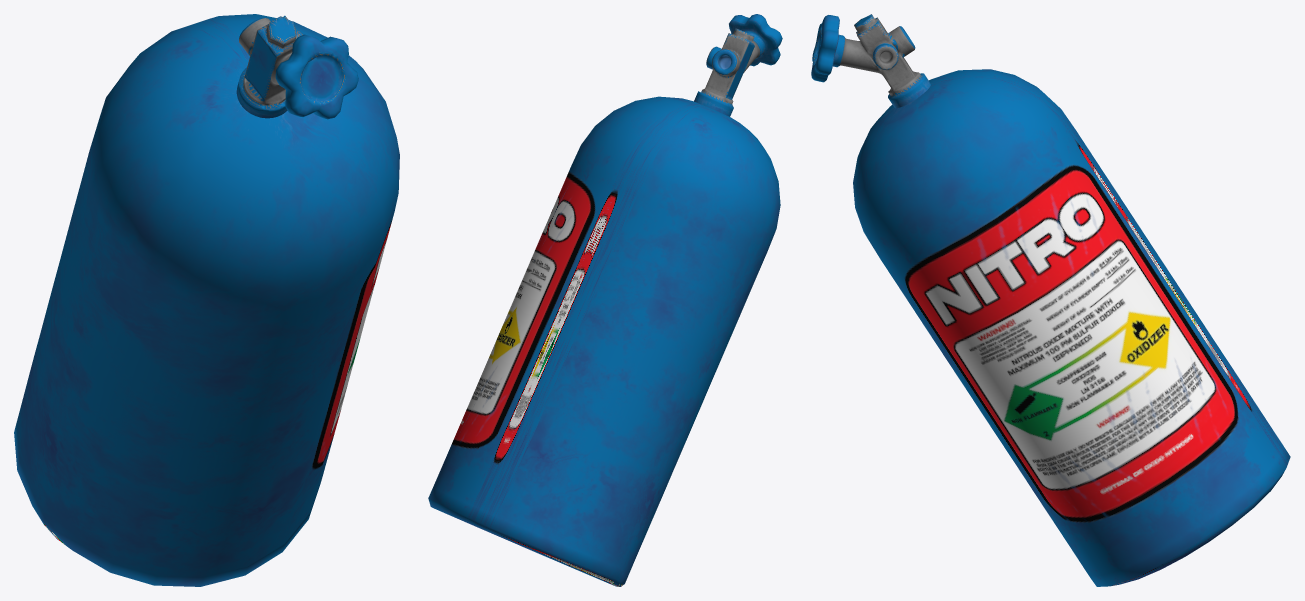
File: nitro.glb
The picture shows the model from 3 angles, left to right: view 1: azimuth 30°, elevation 25°; view 2: azimuth 150°, elevation 25°; view 3: azimuth 270°, elevation 25°; orthographic projection. The views are drawn at different scales.
Parts seen in each view (by area): view 1: Retopo_small_bottle_and_valve.001, Retopo_small_bottle_and_valve; view 2: Retopo_small_bottle_and_valve.001, Retopo_small_bottle_and_valve; view 3: Retopo_small_bottle_and_valve.001, Retopo_small_bottle_and_valve.
Part boxes in pixels (x1,y1,x2,y2): Retopo_small_bottle_and_valve.001: (14, 14, 399, 586); Retopo_small_bottle_and_valve: (236, 15, 358, 119); Retopo_small_bottle_and_valve.001: (428, 96, 780, 586); Retopo_small_bottle_and_valve: (694, 14, 782, 116); Retopo_small_bottle_and_valve.001: (853, 69, 1290, 586); Retopo_small_bottle_and_valve: (811, 14, 930, 108).
Size of the model in its own units: 0.417 by 0.8232 by 0.679.
Materials: 2 (2 with a texture image).
